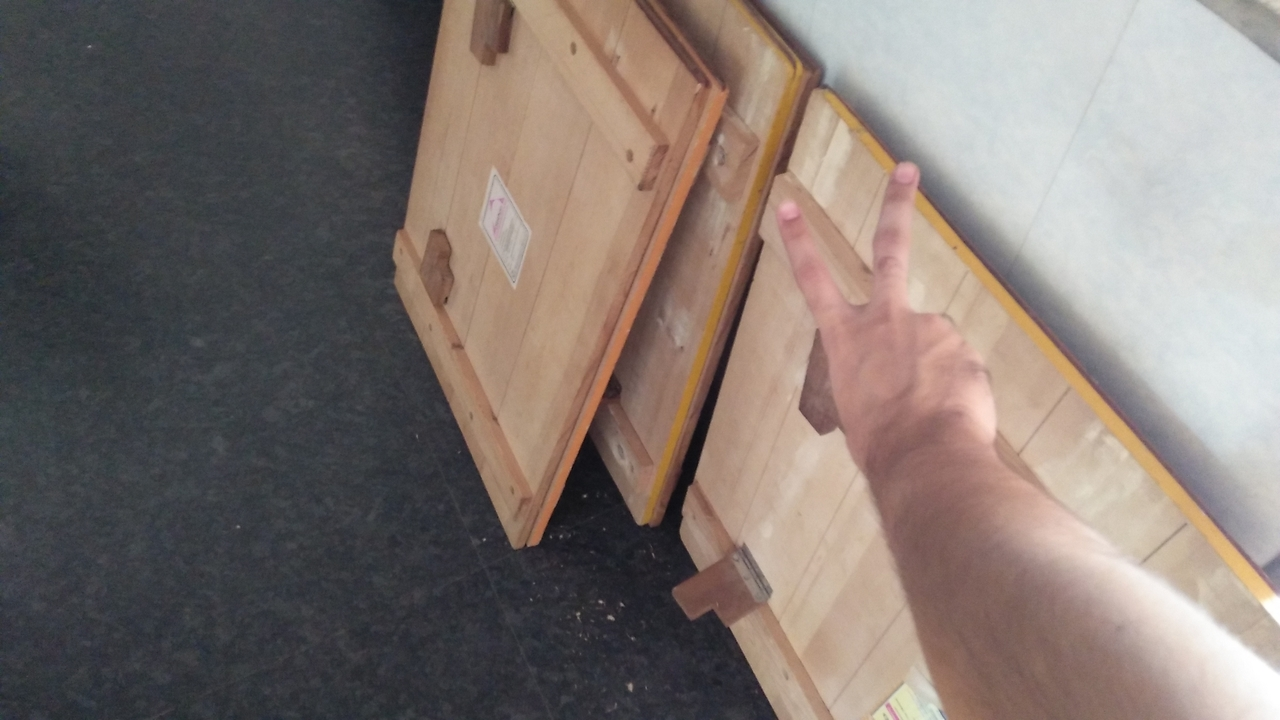fingertip: (762, 182, 818, 238), (878, 156, 930, 200)
